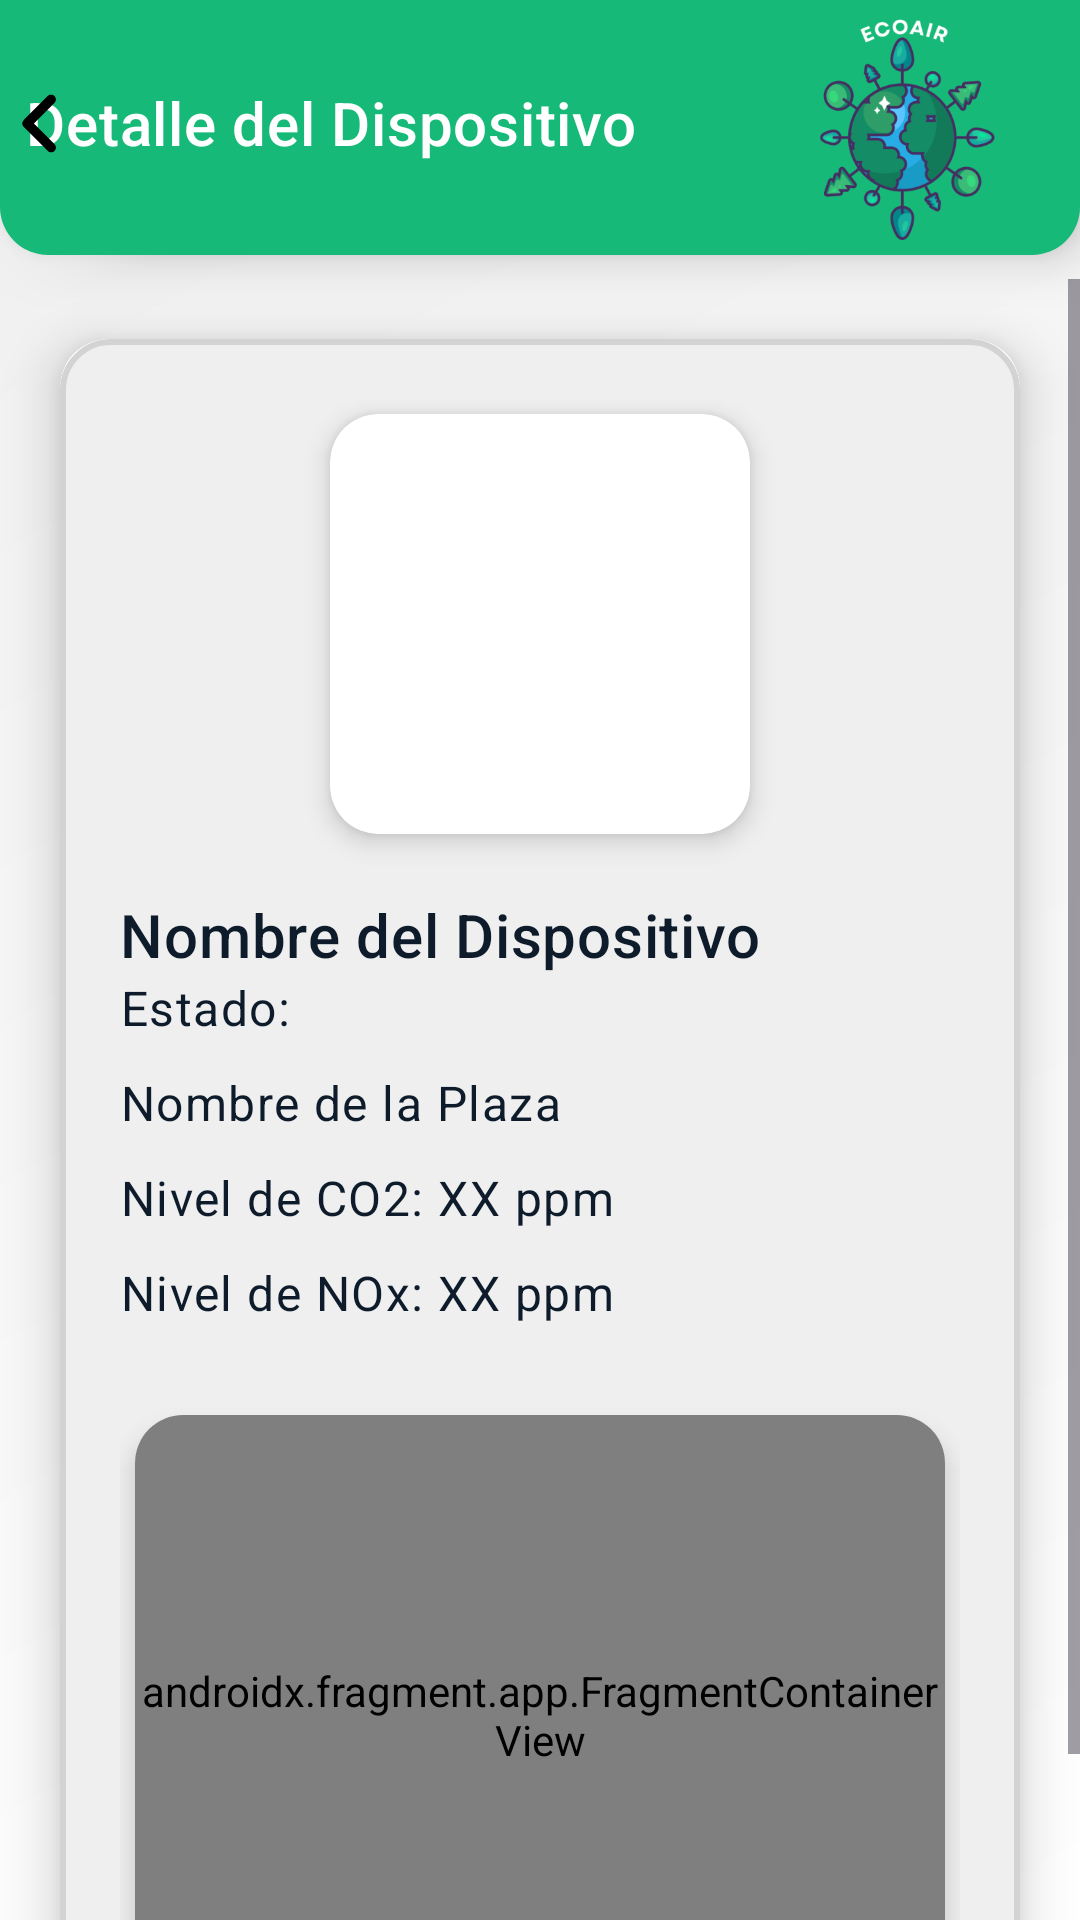

Screen size 1080x1920. Icon name, then its center in pixels as (x,y):
back: (42,123)
